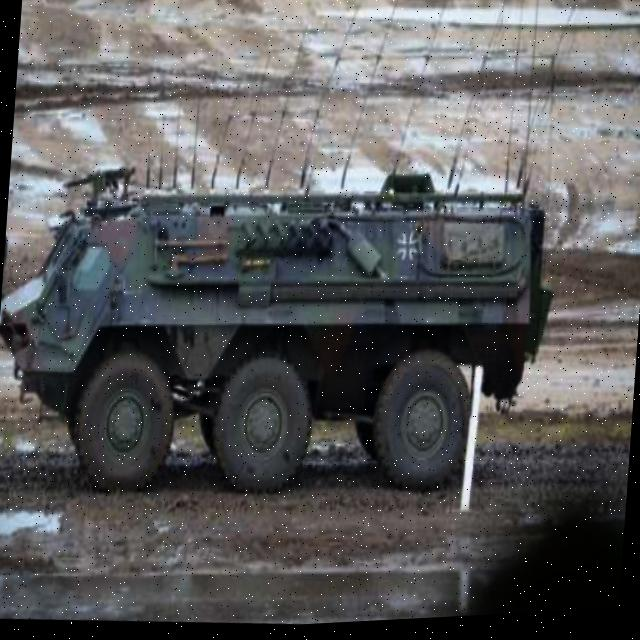MIL_APC: (0, 116, 583, 545)
